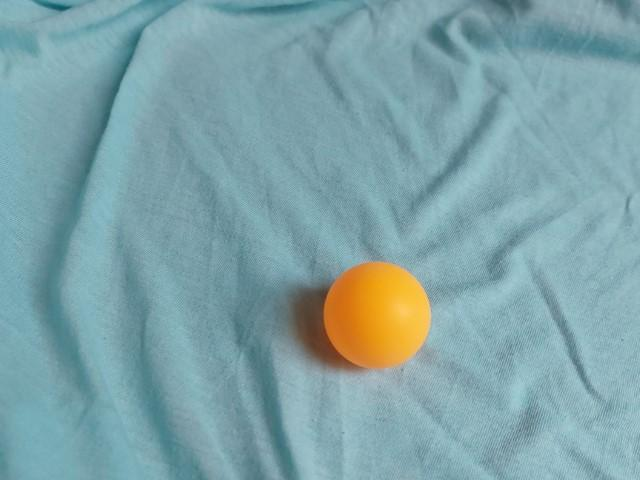oball: (316, 255, 442, 376)
